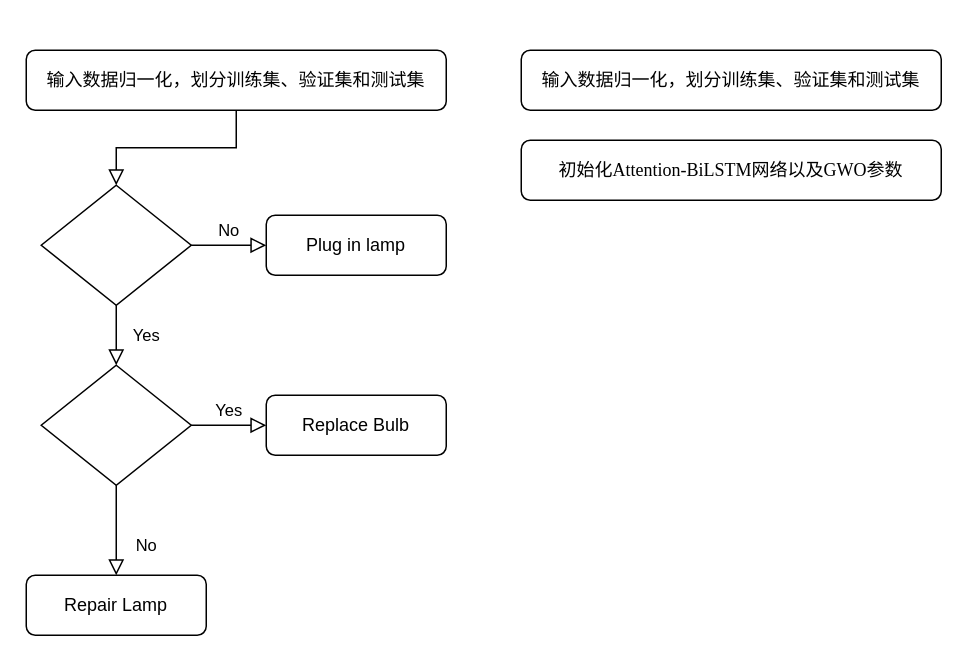
This 968x662 diagram has some shape labels left out. Here are the shapes that lost their labels. From the top down, the box of each, then its label:
(40, 184, 191, 305): Lamp plugged in?
(40, 364, 191, 485): Bulb burned out?
